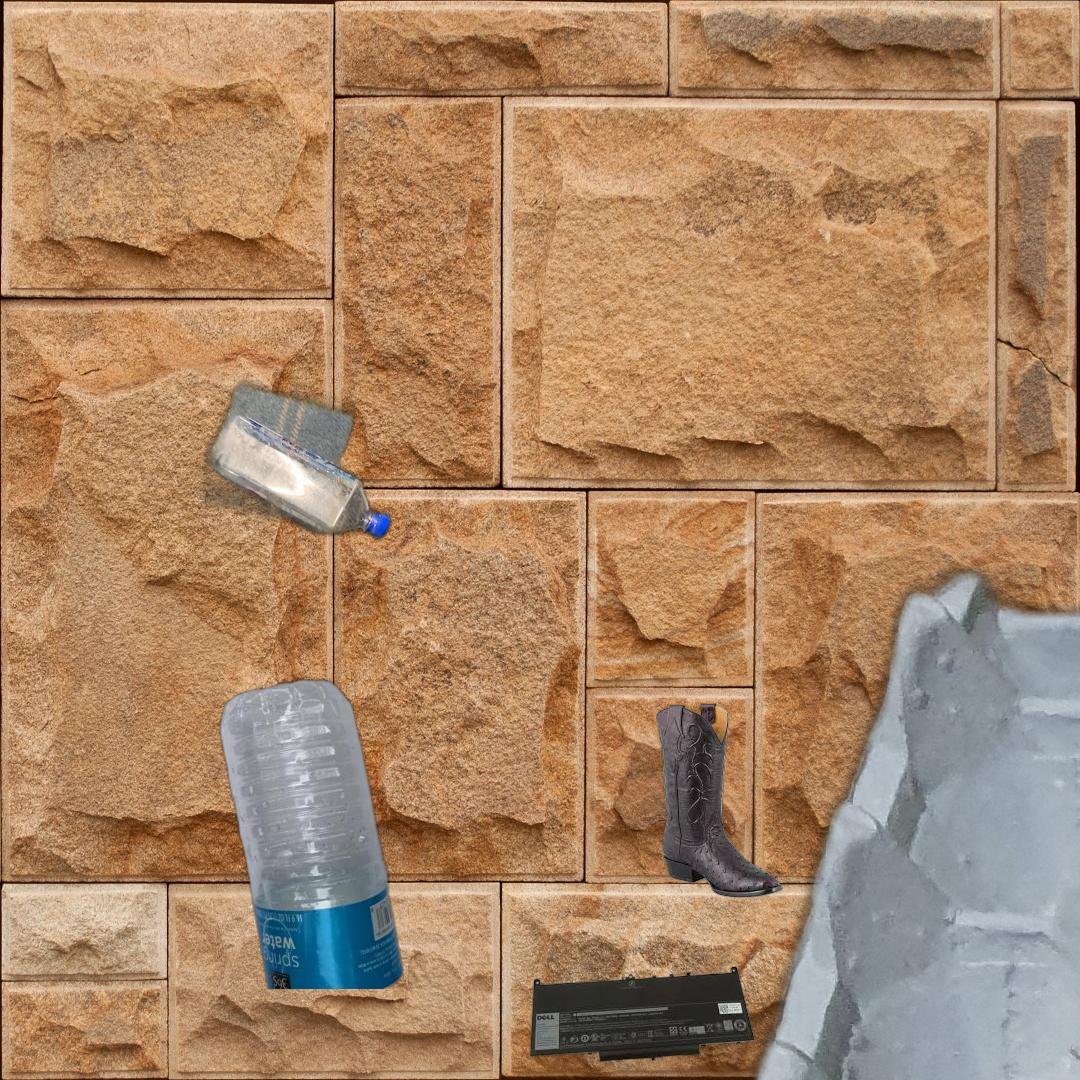battery: (530, 964, 755, 1064)
plastic-bottles: (39, 292, 396, 570), (216, 677, 408, 989)
shoes: (653, 700, 785, 900)
trashbox-cardboard: (352, 538, 1080, 1080)
